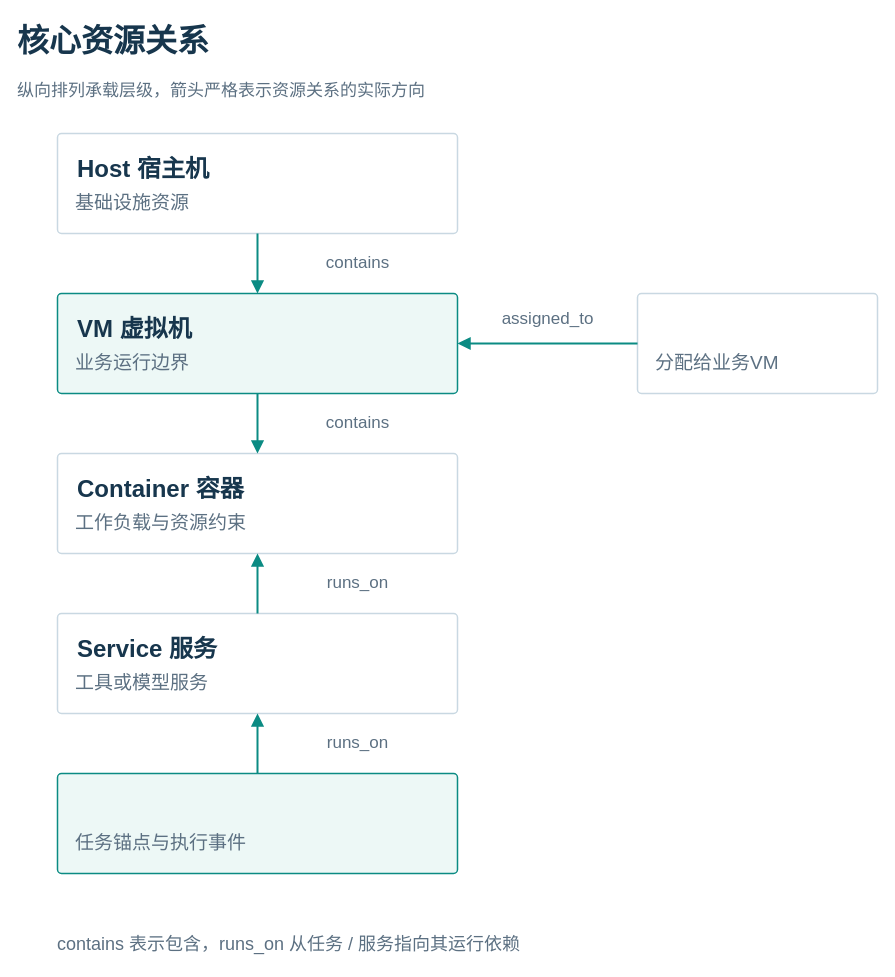
This 895x977 diagram has some shape labels left out. The shapes that lost their labels are listed below. From the top down, each one's box as (x1, y1, x2, y2) in pixels, then its label:
(636, 292, 878, 394): GPU
(56, 772, 458, 874): Task 智能体任务
